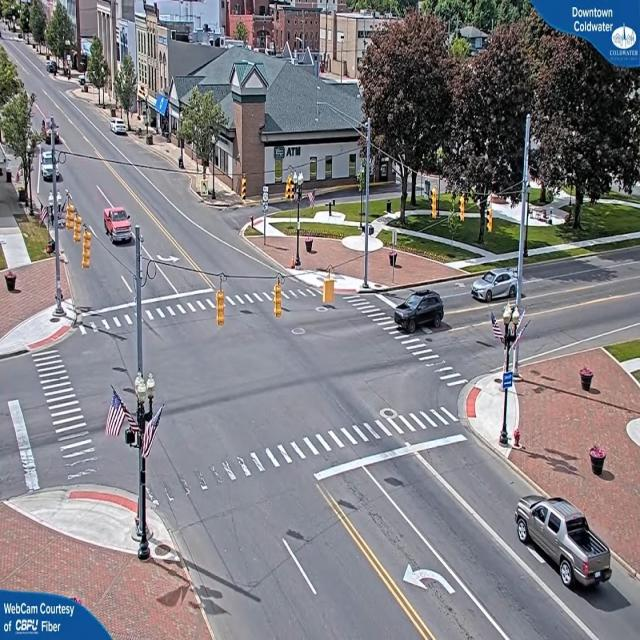car: (516, 488, 605, 576), (395, 291, 446, 334), (469, 269, 520, 302), (106, 207, 135, 243), (110, 120, 128, 136)
